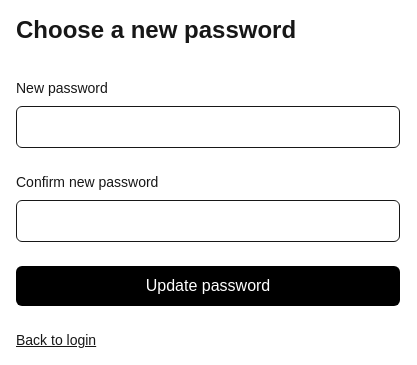
it: Reset password page › updates the password for a valid recovery session
Expected: the heading "Choose a new password" is shown, [16,16,296,43]
Type "new-secret-password" into the password field labelled "New password" at x=208, y=127, box [16,106,400,148]
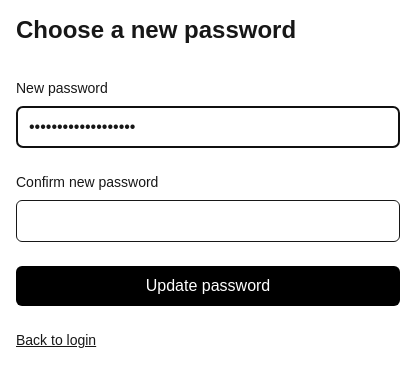
Type "new-secret-password" into the password field labelled "Confirm new password" at x=208, y=221, box [16,200,400,242]
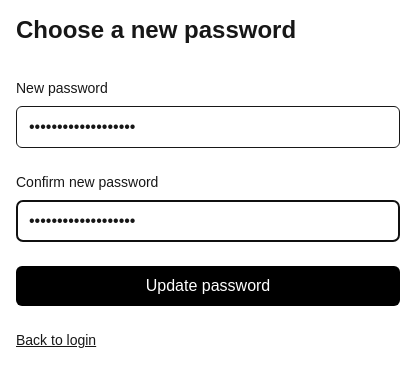
Click the button "Update password" at x=208, y=286, box [16,266,400,306]
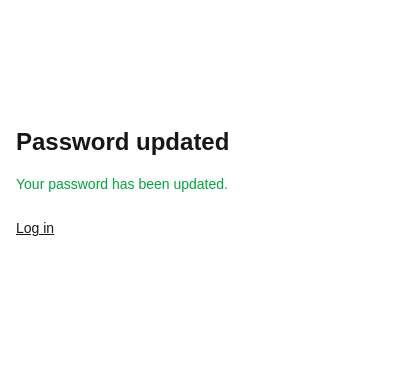
Now the message reads "Your password has been updated.", box [16,176,228,192]
